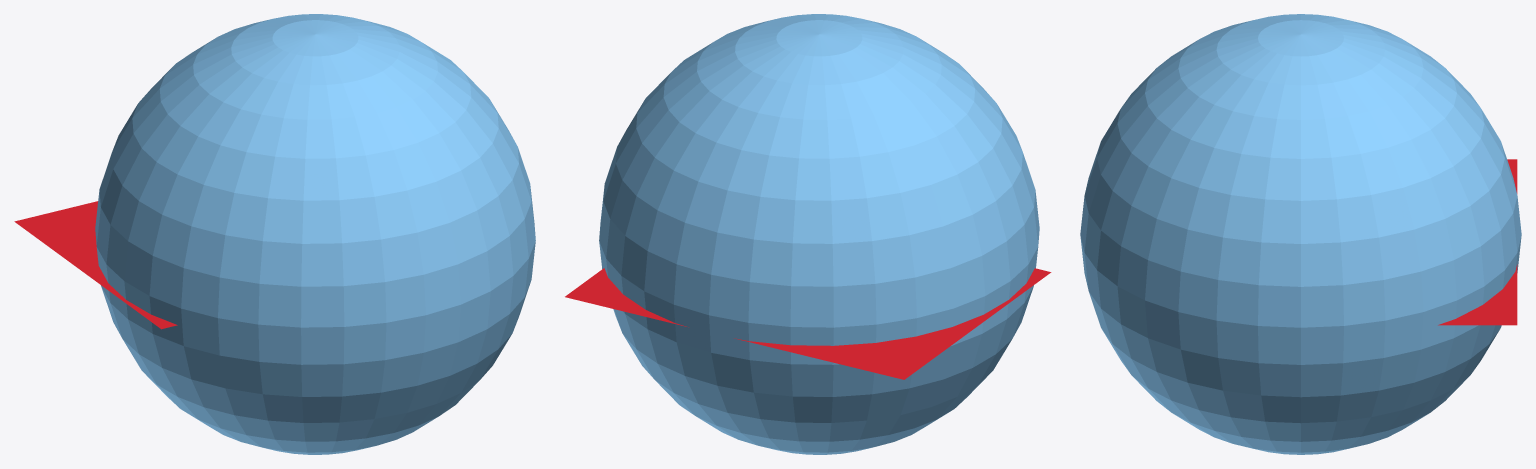
File: test-zone2.glb
The picture shows the model from 3 angles, left to right: view 1: azimuth 30°, elevation 25°; view 2: azimuth 150°, elevation 25°; view 3: azimuth 270°, elevation 25°; orthographic projection.
Visible parts, largest first — view 1: SkyBox, DeathPlane; view 2: SkyBox, DeathPlane; view 3: SkyBox, DeathPlane.
Part boxes in pixels (box(x1,y1,x2,y2)): SkyBox: box(95, 14, 535, 454); DeathPlane: box(14, 201, 177, 329); SkyBox: box(599, 14, 1039, 454); DeathPlane: box(565, 268, 1051, 379); SkyBox: box(1080, 14, 1521, 454); DeathPlane: box(1438, 159, 1517, 325).
Size of the model in its own units: 362 by 360 by 360.
Materials: 14 (13 with a texture image).
